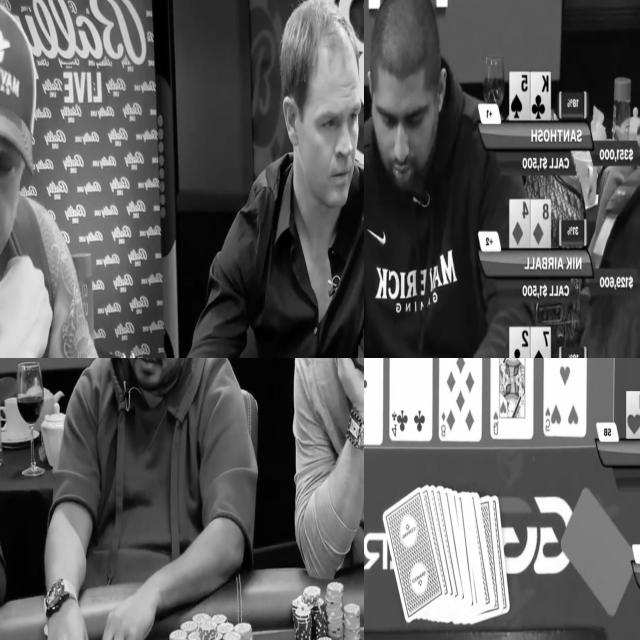2C: (510, 328, 528, 358)
4D: (511, 200, 529, 248)
5S: (510, 73, 529, 119)
7S: (531, 328, 549, 358)
8D: (531, 200, 549, 247)
JH: (626, 391, 640, 438)
KC: (531, 73, 550, 119)
